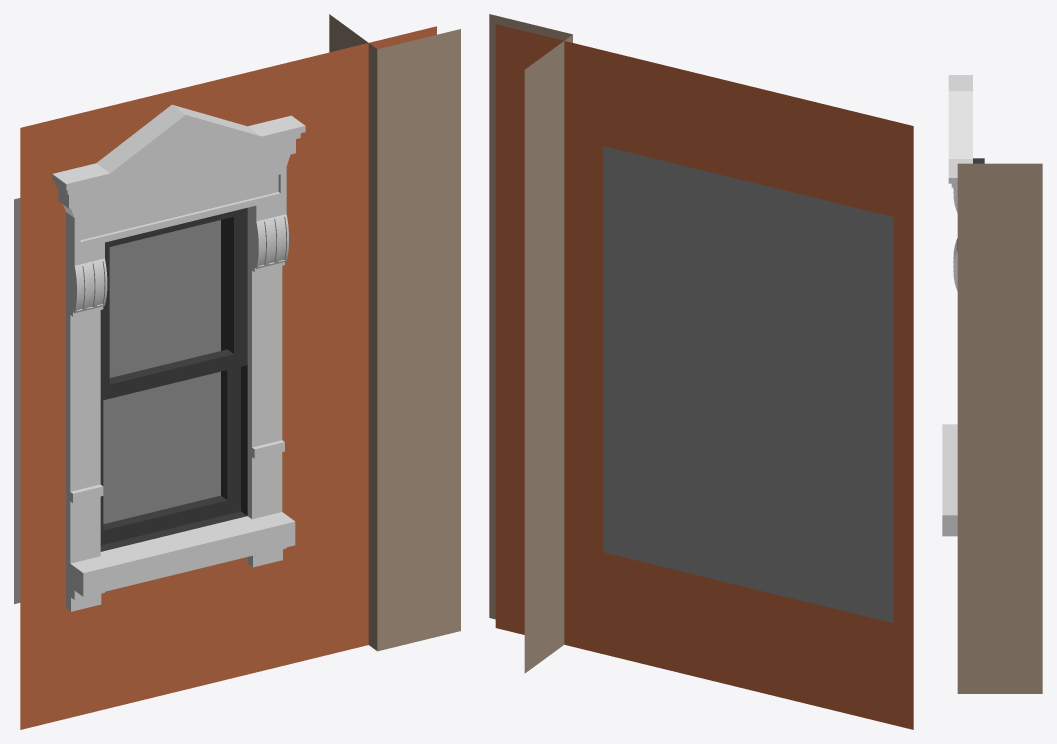
The model's file is object_B2_Top_floor_window_corner.glb.
3 views of the same model, side by side, from view 1: azimuth 30°, elevation 25°; view 2: azimuth 150°, elevation 25°; view 3: azimuth 270°, elevation 25° (orthographic). The views are drawn at different scales.
Parts seen in each view (by area): view 1: B2 Top floor window corner; view 2: B2 Top floor window corner; view 3: B2 Top floor window corner.
Part boxes in pixels (left/top/right/bottom): B2 Top floor window corner: left=14, top=14, right=460, bottom=729; B2 Top floor window corner: left=489, top=14, right=913, bottom=729; B2 Top floor window corner: left=942, top=75, right=1042, bottom=693.
Size of the model in its own units: 2.85 by 3.8 by 0.6514.
